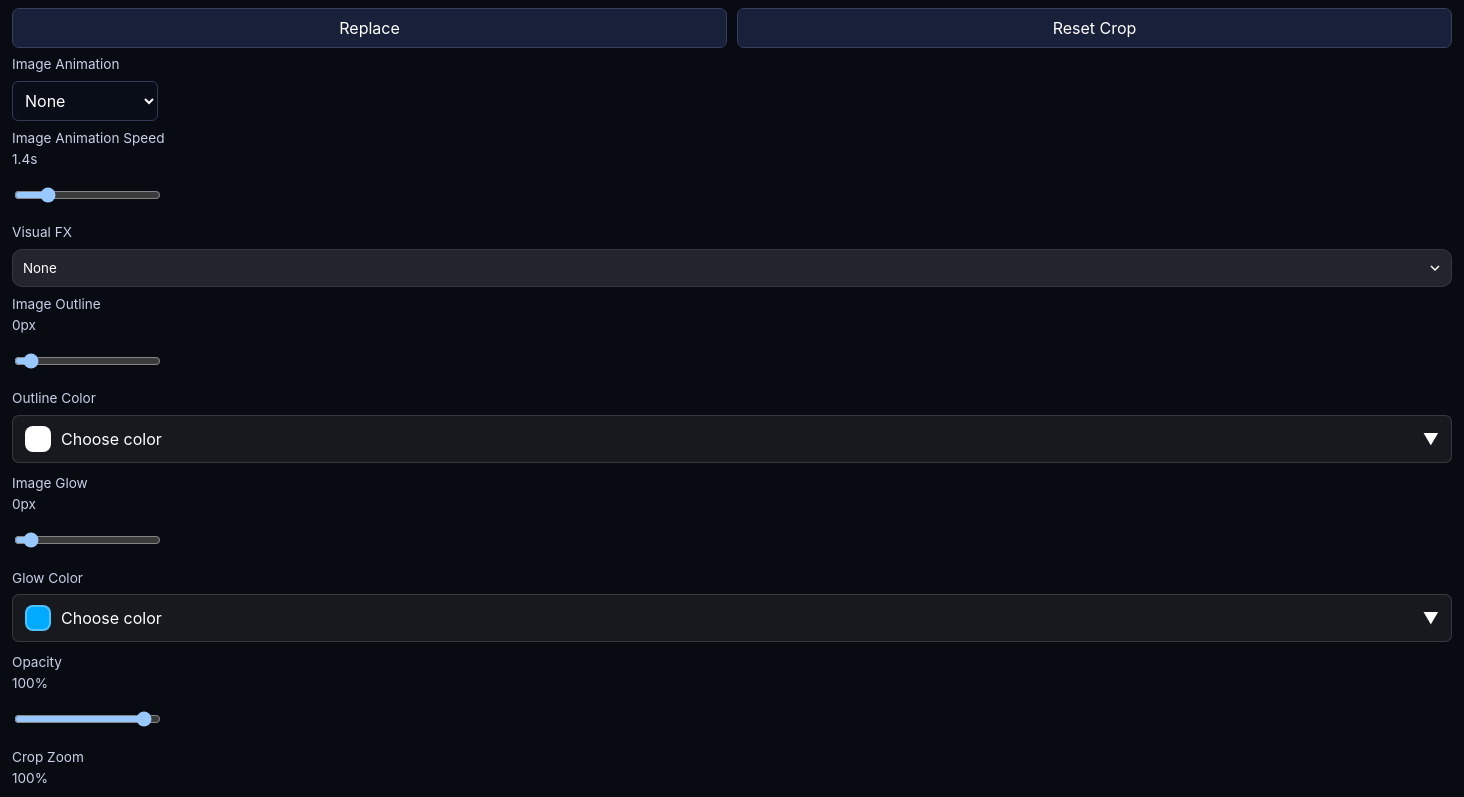
Test: replaces only the Visual FX select and applies the existing palette on selection
The image size is (1464, 797).
Click the dropdown named "Visual FX": [40, 268] box [12,249,1452,287]
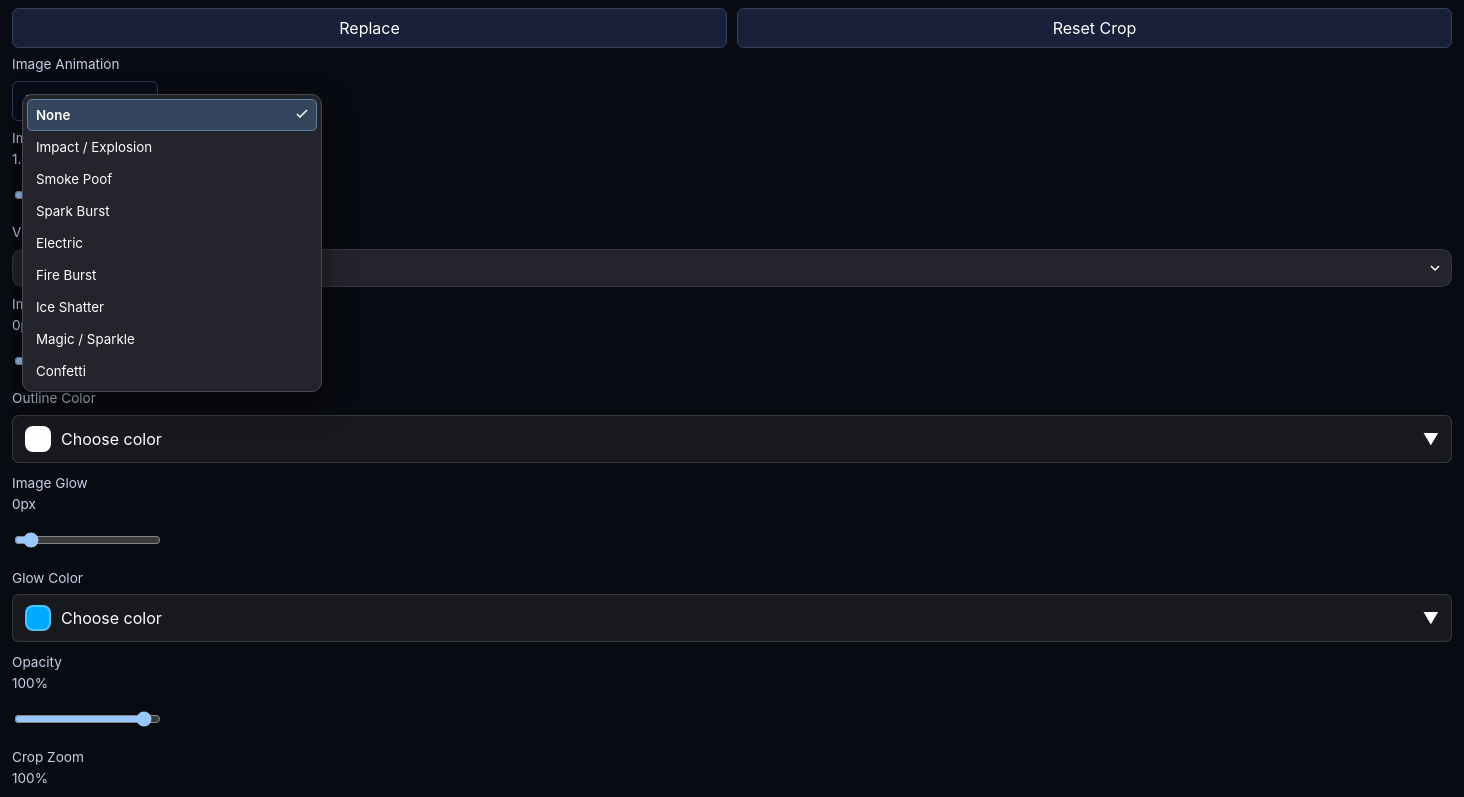
Click the option "Fire Burst": [66, 275] box [27,259,317,291]
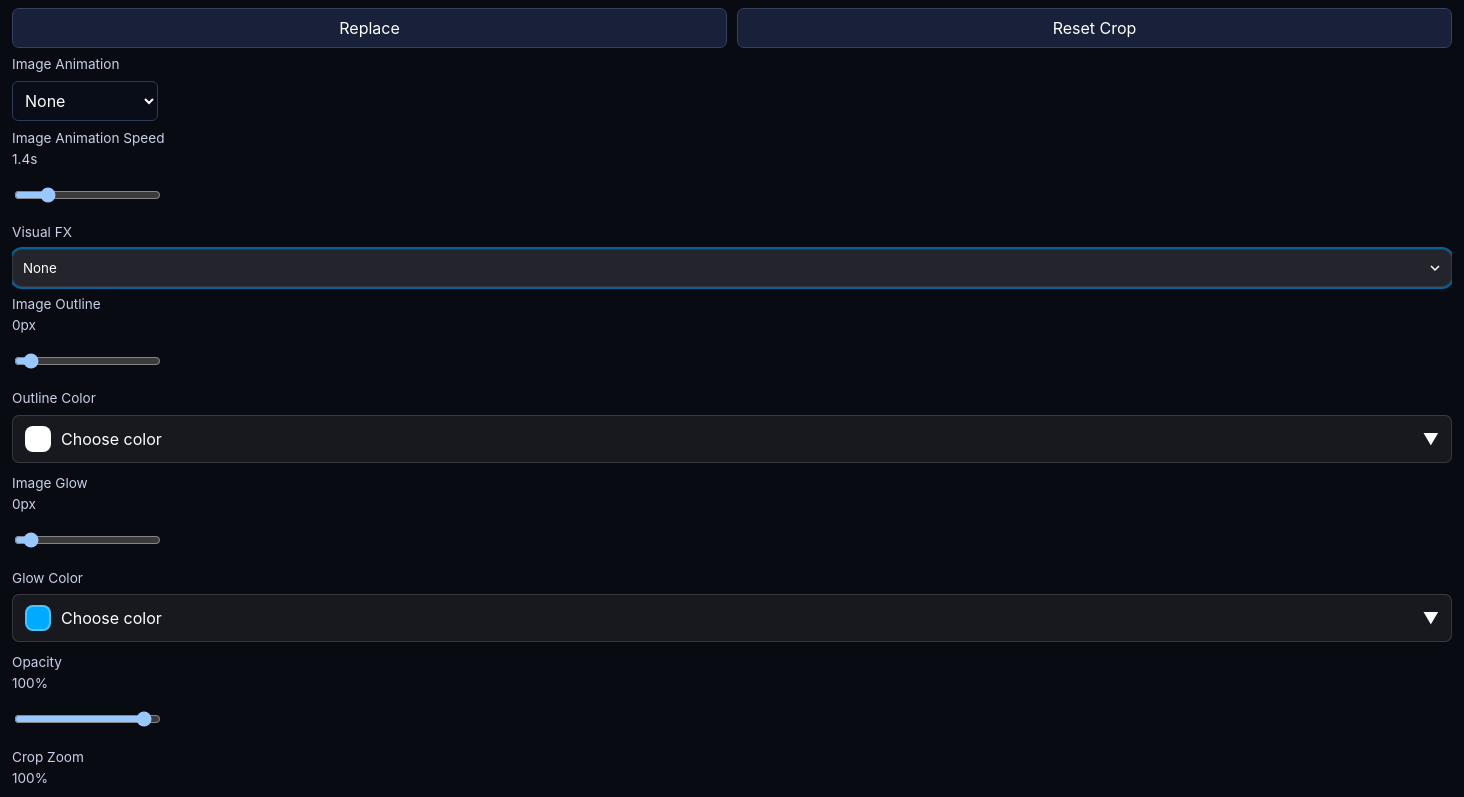
Expected: the list is gone
